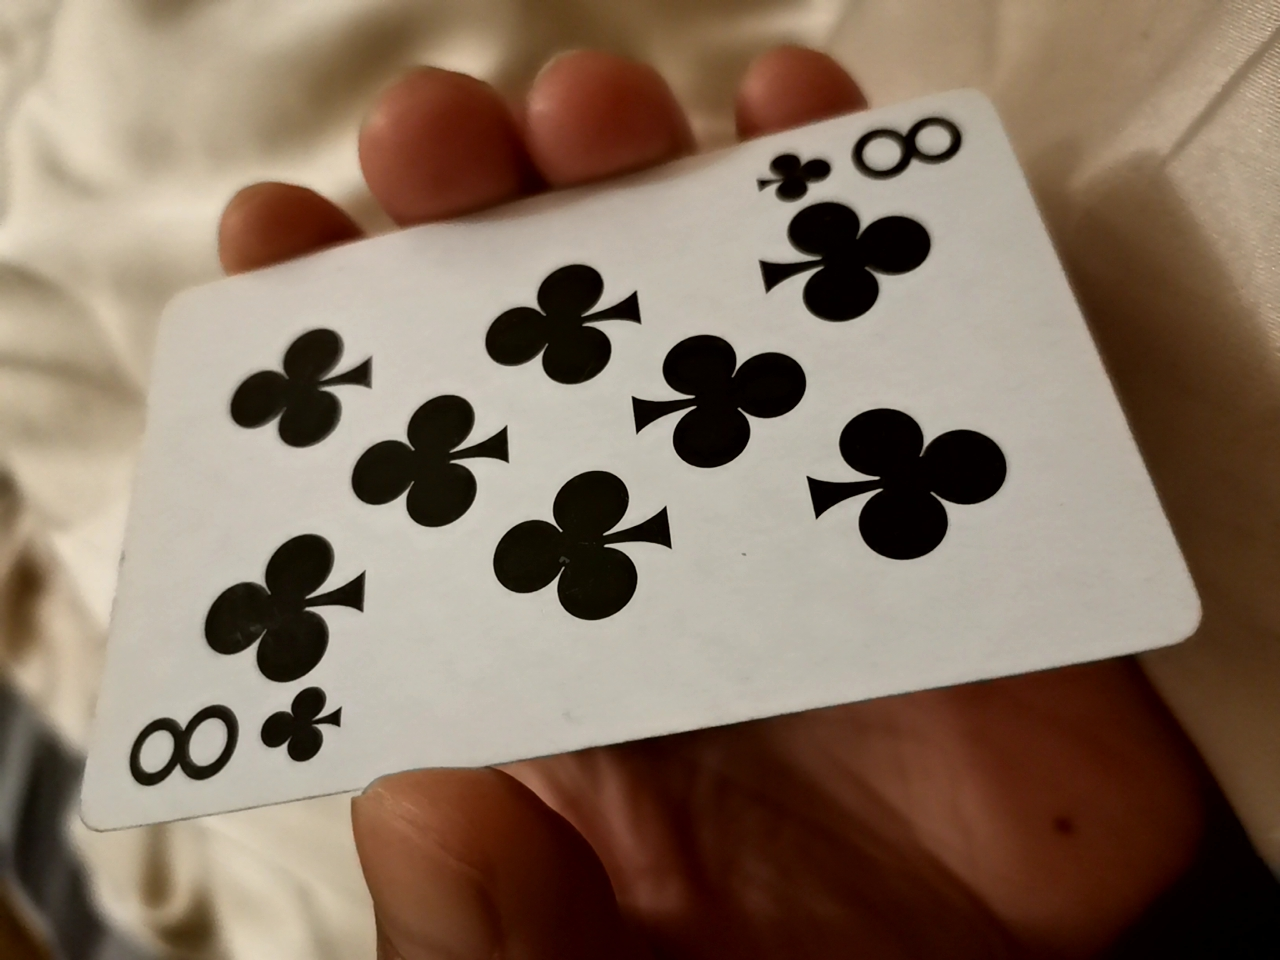mh 8: (66, 81, 1205, 846)
